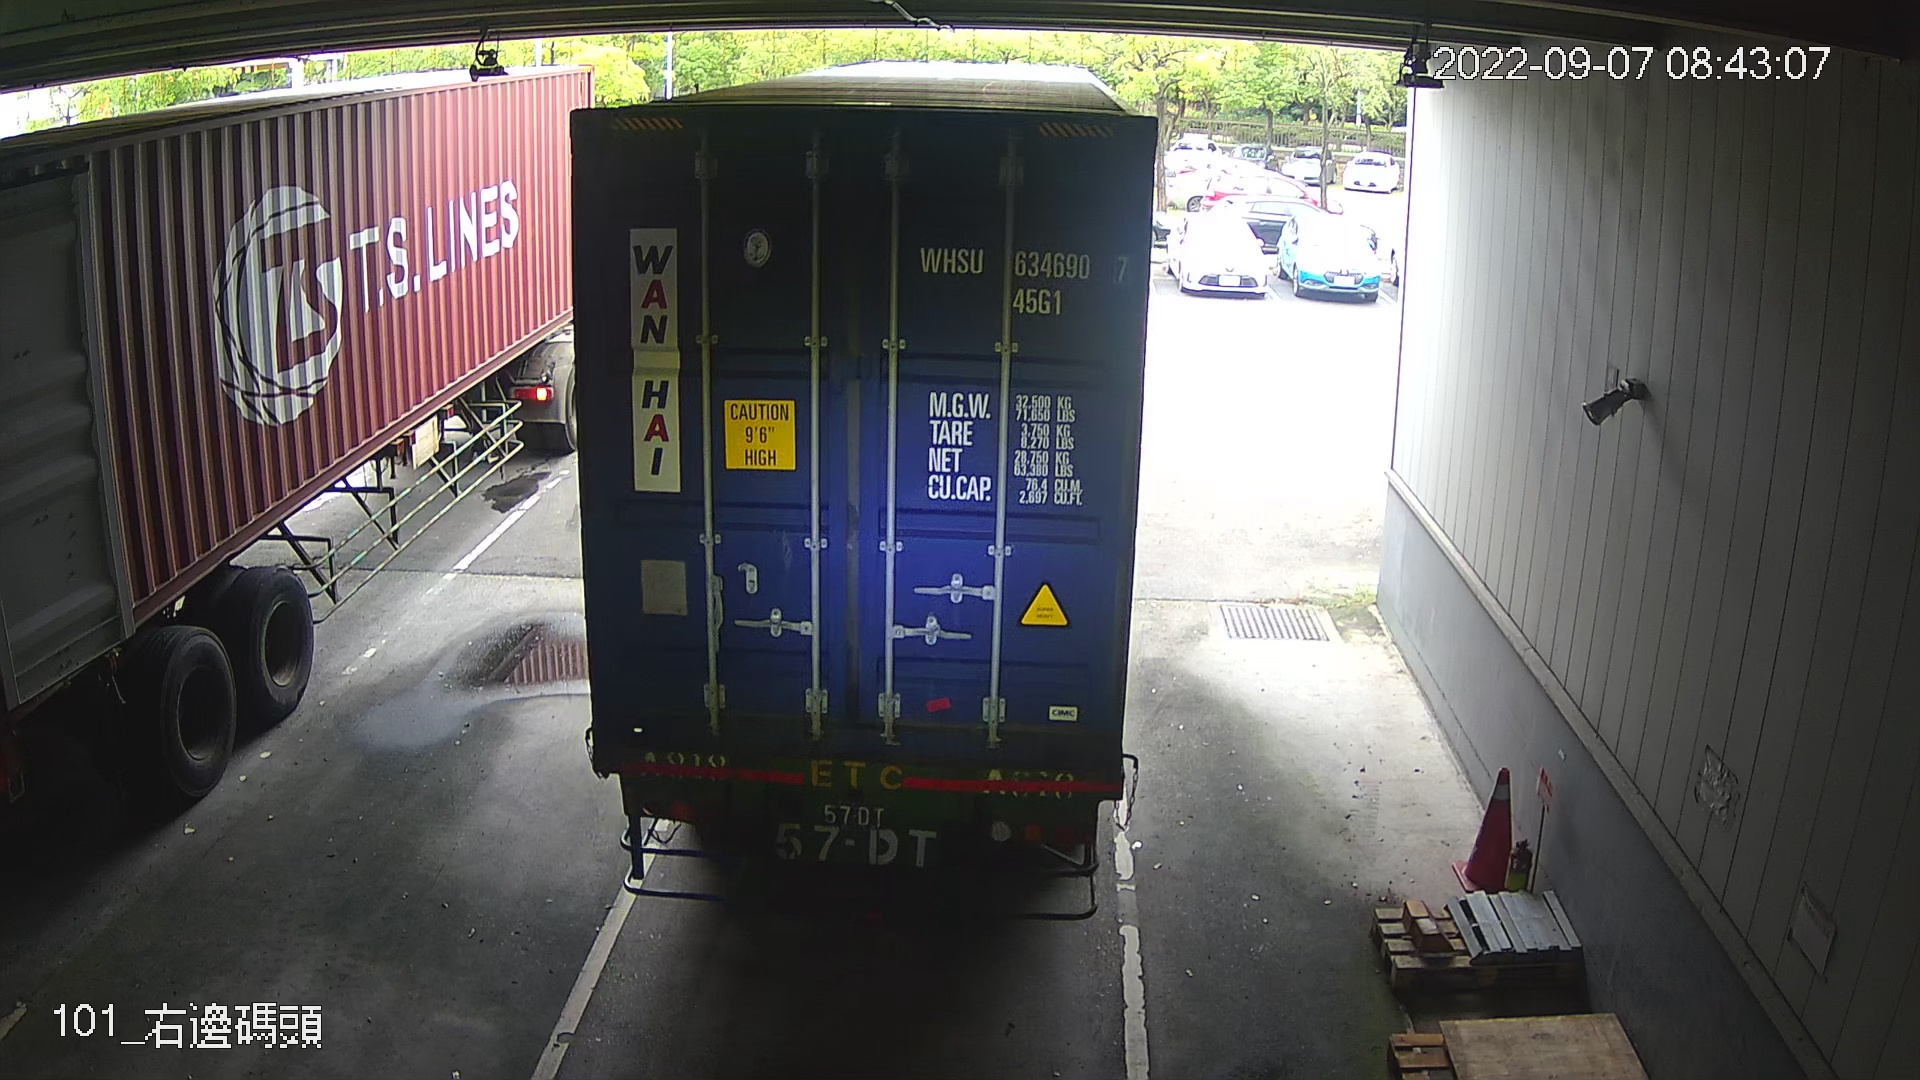container: (913, 235, 1139, 319)
